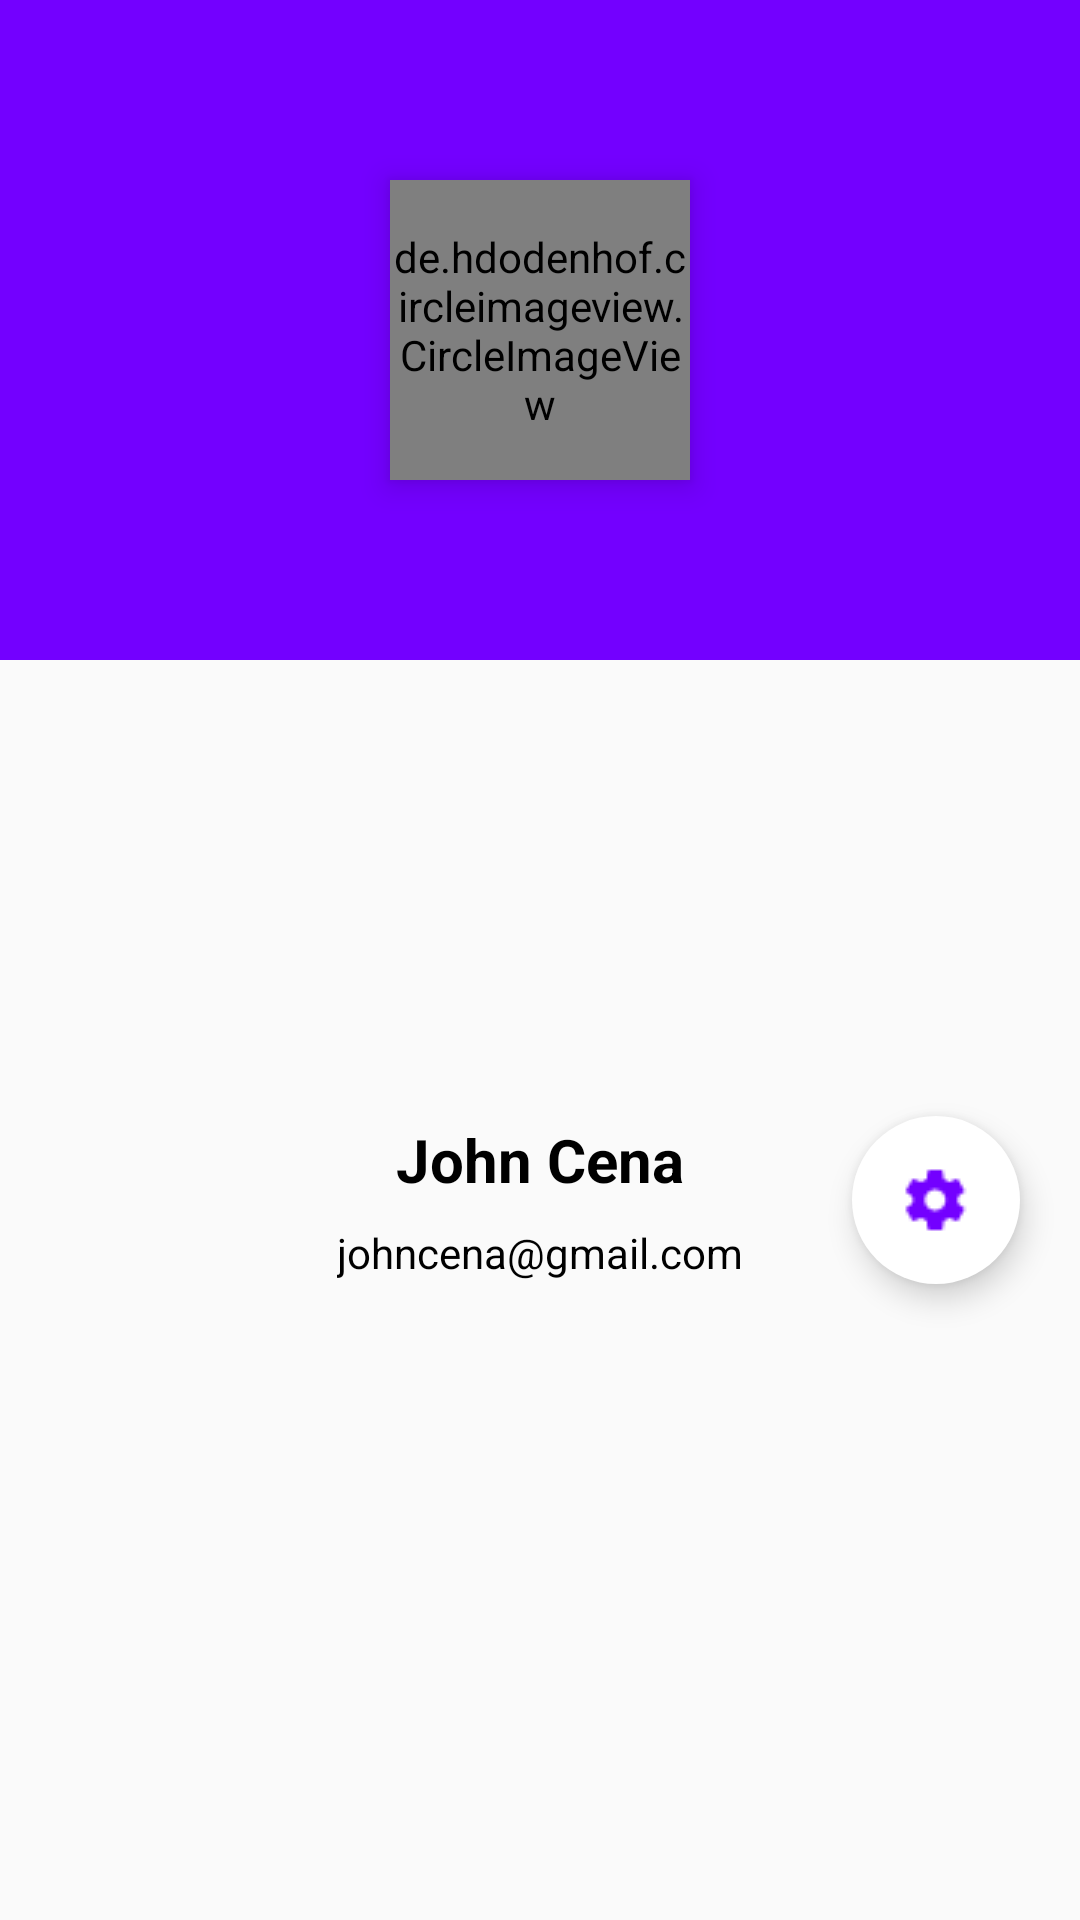

Icon bounding boxes for this 1080px×1920px phone screenshot, format bbox=(x1, y1, x2, y2):
settings: bbox=(860, 1169, 966, 1239)
